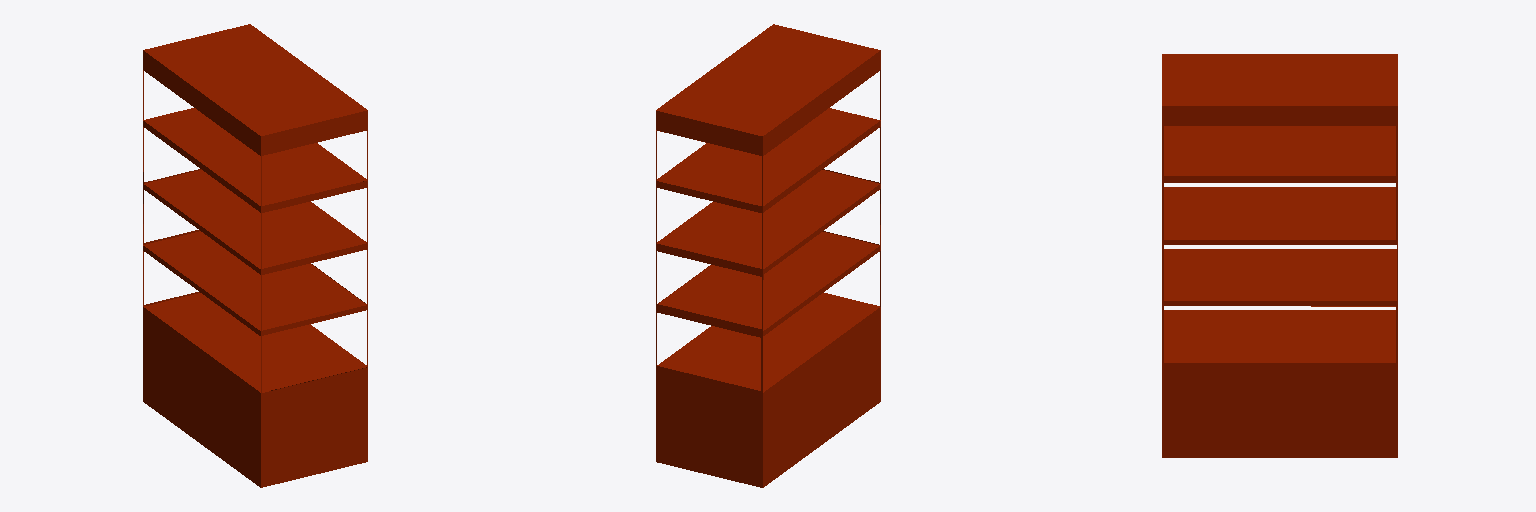
Rendered from vitrine.obj.
3 views of the same model, side by side, from view 1: azimuth 30°, elevation 25°; view 2: azimuth 150°, elevation 25°; view 3: azimuth 270°, elevation 25° (orthographic).
Parts seen in each view (by area): view 1: Cube; view 2: Cube; view 3: Cube.
Boxes of the visible parts, <box> form: Cube: <box>143,24,367,487</box>; Cube: <box>656,24,880,487</box>; Cube: <box>1162,54,1397,457</box>.
Bounding box in the file's own units: 1.14 × 3.54 × 2.16.